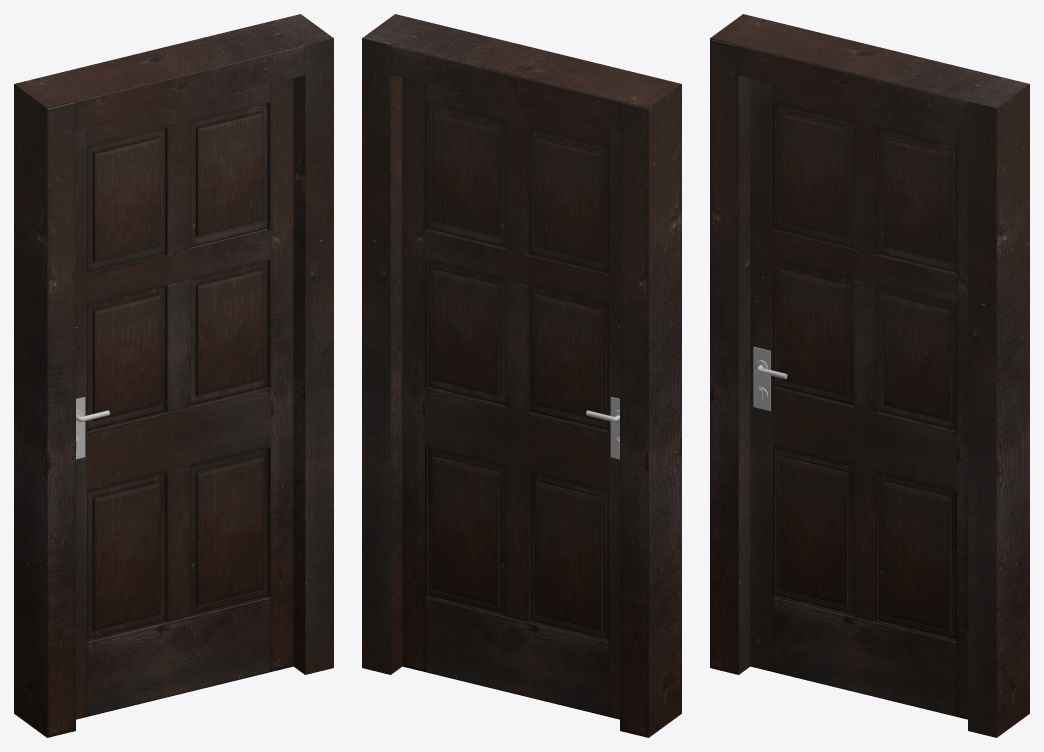
File: Door_SM.fbx
3 views of the same model, side by side, from view 1: azimuth 30°, elevation 25°; view 2: azimuth 150°, elevation 25°; view 3: azimuth 330°, elevation 25° (orthographic).
Visible parts, largest first — view 1: Door, DoorFrame, Cube.001; view 2: Door, DoorFrame, Cube.000; view 3: Door, DoorFrame, Cube.001.
Boxes of the visible parts, <box> form: Door: <box>76,78,293,719</box>; DoorFrame: <box>14,14,333,737</box>; Cube.001: <box>76,397,109,459</box>; Door: <box>402,78,619,719</box>; DoorFrame: <box>362,14,681,737</box>; Cube.000: <box>586,397,619,459</box>; Door: <box>750,78,967,719</box>; DoorFrame: <box>710,14,1029,737</box>; Cube.001: <box>753,347,787,410</box>.
Bounding box in the file's own units: 100 × 210 × 20.
